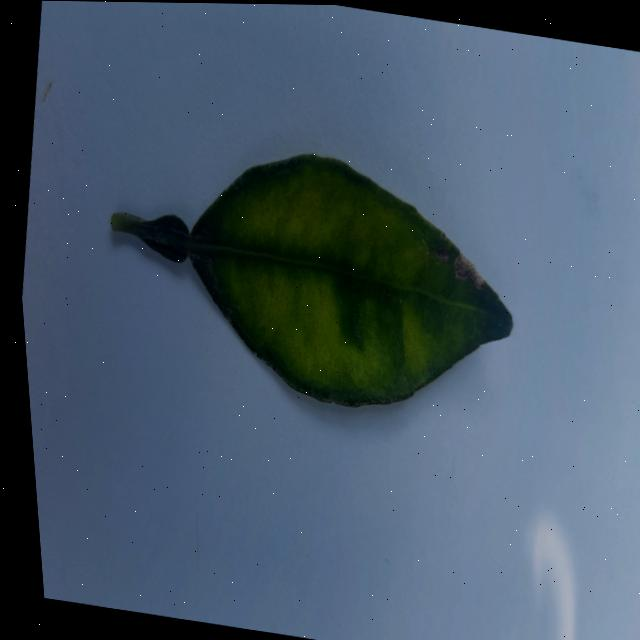greening: (111, 154, 513, 405)
